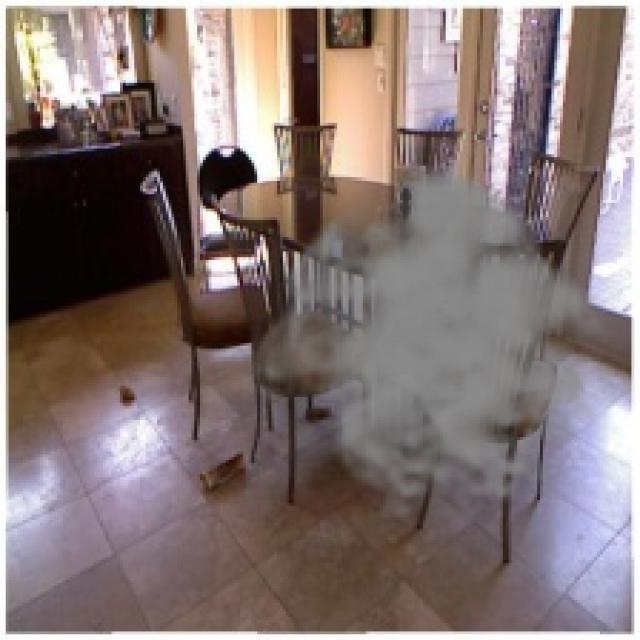Smoke: (246, 160, 623, 523)
